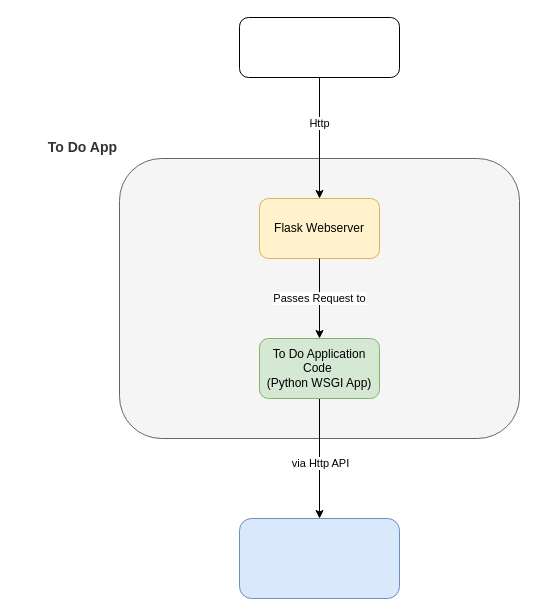
The diagram is 537 pixels wide and 616 high, and some of its shapes have lost their labels. Each missing label, with the box of its shape:
Trello API: (238, 518, 400, 598)
Web Browser (Client): (238, 16, 400, 78)
